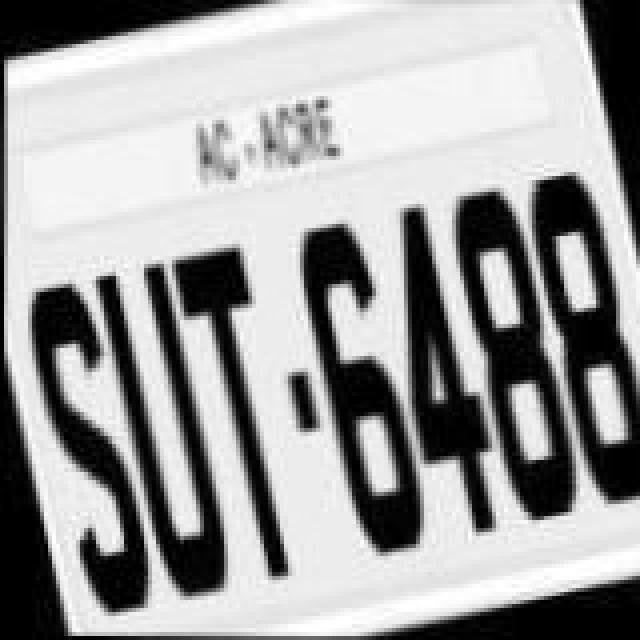4: (358, 196, 522, 556)
6: (278, 210, 446, 570)
8: (434, 174, 598, 534), (508, 156, 640, 516)
S: (10, 272, 174, 632)
T: (160, 240, 324, 592)
U: (86, 254, 250, 614)
